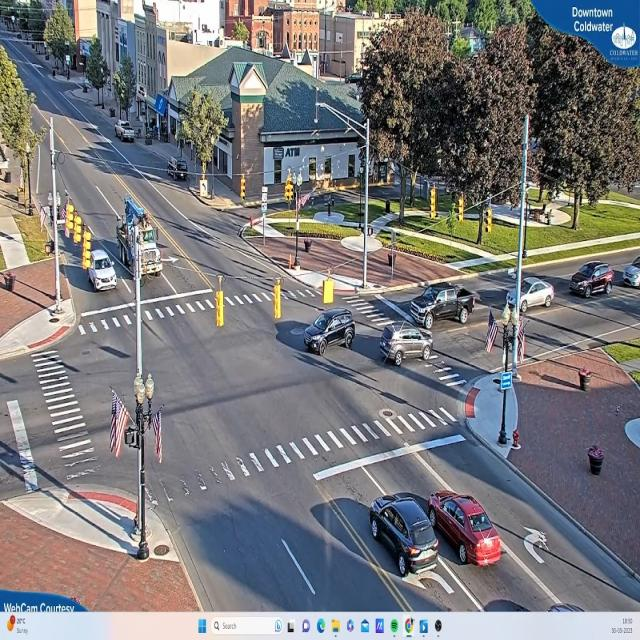car: (426, 491, 506, 568), (369, 493, 442, 577), (475, 275, 555, 312), (413, 287, 477, 327), (302, 307, 354, 353), (382, 327, 433, 362), (570, 262, 614, 301), (89, 252, 118, 292), (620, 260, 639, 288), (117, 122, 137, 144), (343, 73, 362, 84)
